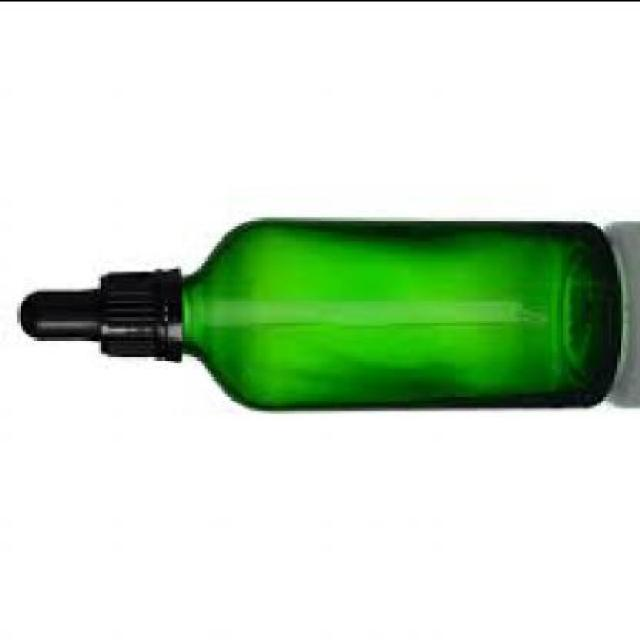glass: (183, 225, 620, 412)
plastic: (15, 270, 183, 364)
